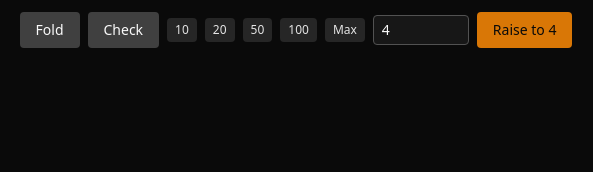
Scenario: ActionControls › quick-bet buttons › set the raise input to the clamped multiple of the big blind, without acting
Click the button titled "10× big blind".
click(220, 30)  # box [205,18,234,42]
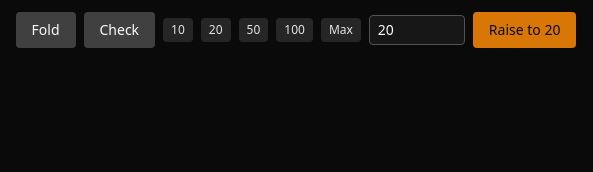
Expected: the number field named "Raise amount" holds "20", [369,15,465,45]
